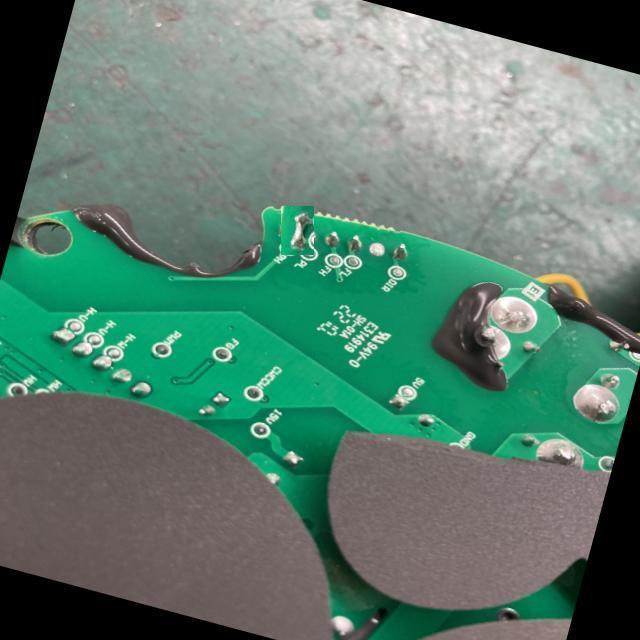damged: (277, 210, 319, 251)
